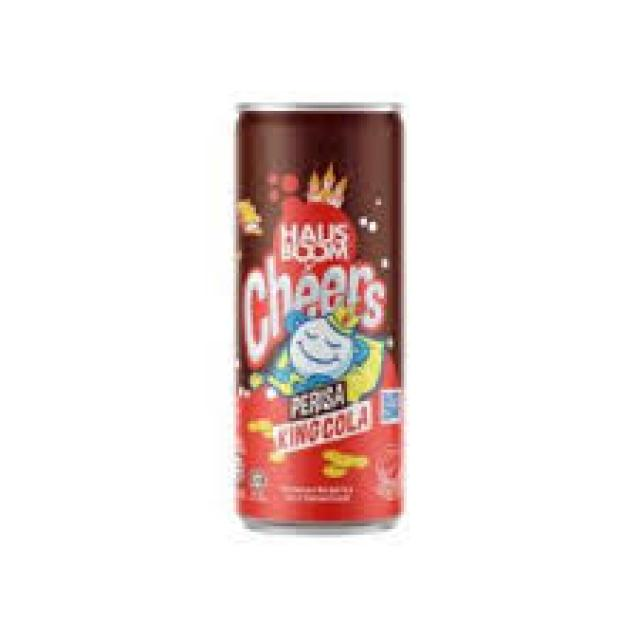Cans: (216, 94, 415, 546)
